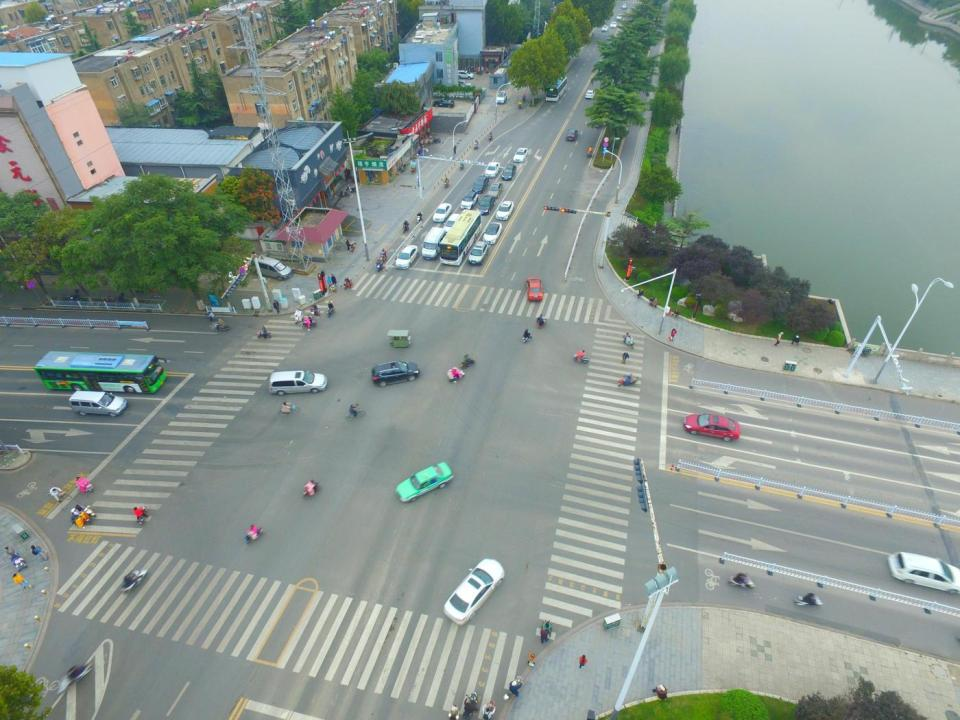bus: (30, 346, 167, 393), (439, 210, 482, 266), (545, 75, 567, 102)
car: (444, 557, 507, 626), (884, 551, 958, 596), (390, 460, 455, 504), (262, 368, 327, 397), (683, 411, 743, 442), (368, 358, 420, 388), (394, 244, 419, 270), (467, 239, 490, 266), (523, 275, 544, 301), (442, 213, 464, 235), (475, 194, 496, 216), (481, 222, 502, 244), (460, 188, 480, 210), (494, 200, 514, 222), (432, 202, 452, 222), (471, 175, 490, 193), (510, 146, 528, 163), (483, 160, 500, 178), (486, 182, 503, 200), (501, 165, 517, 181), (432, 98, 455, 108), (452, 69, 474, 79), (564, 127, 578, 140), (450, 83, 470, 92), (451, 80, 473, 88), (496, 91, 507, 104), (585, 89, 595, 99), (615, 13, 623, 21), (601, 25, 609, 32), (610, 21, 617, 28), (620, 3, 628, 9)
van: (68, 391, 129, 418), (252, 250, 294, 279), (421, 227, 448, 260)
